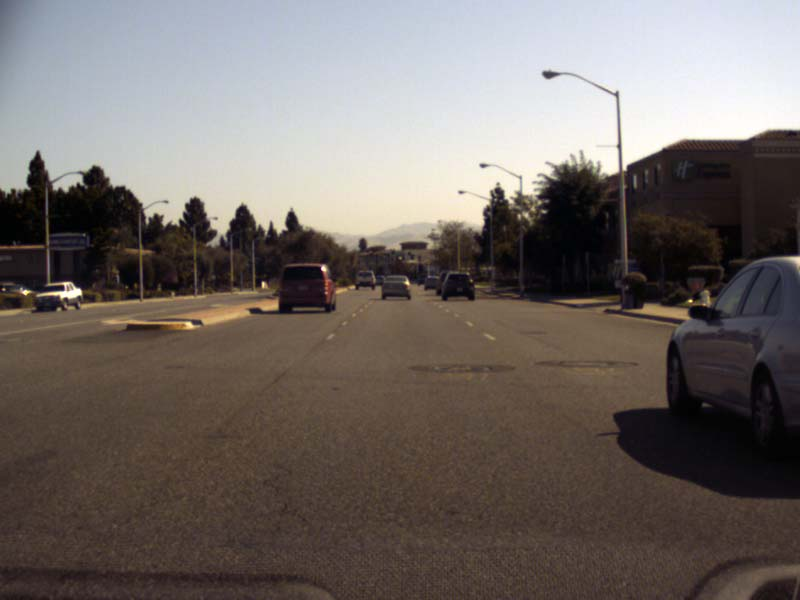Green: (391, 253, 394, 258)
